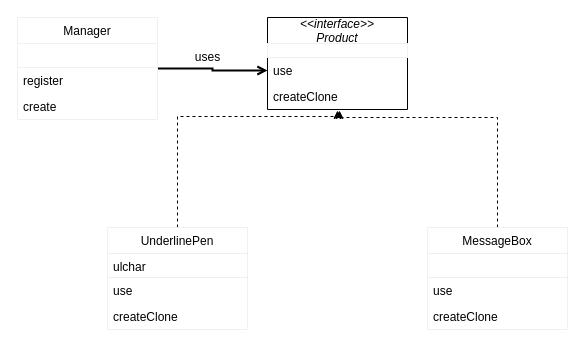
The diagram is 585 pixels wide and 350 high, and some of its shapes have lost their labels. The shapes that lost their labels are listed below. From the top down, each one's centre as x and y in pixels, then its label:
At point 87,55: "showcase".
At point 497,265: "decochar".
